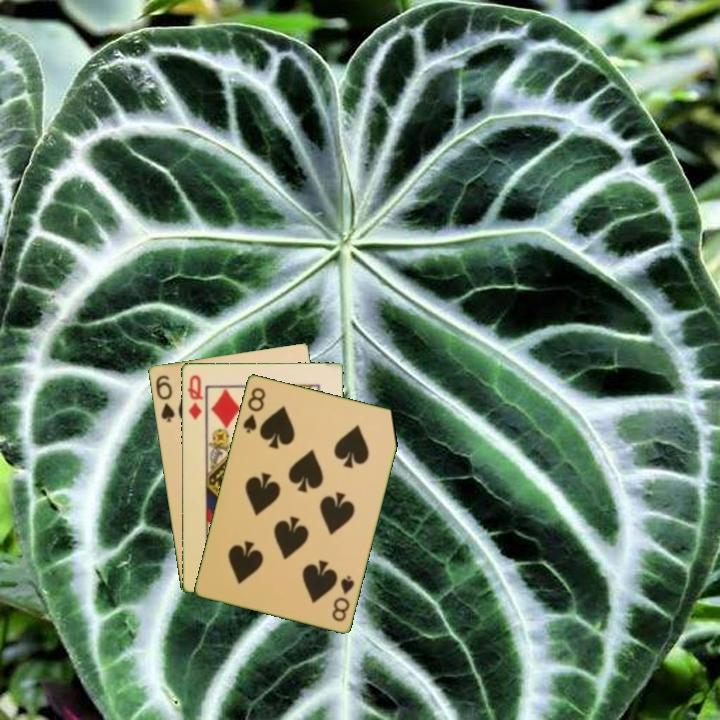6s: (152, 371, 177, 425)
8s: (328, 571, 357, 624), (239, 383, 268, 435)
Qd: (183, 371, 206, 423)
